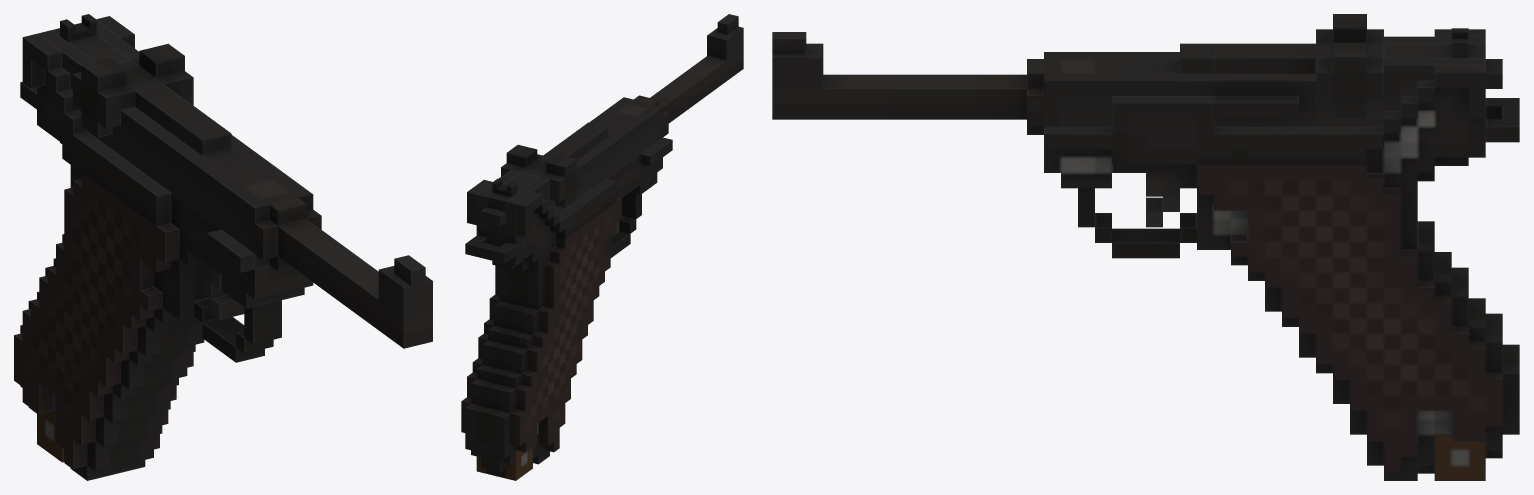
File: RD_LUGER_P08.glb
The picture shows the model from 3 angles, left to right: view 1: azimuth 30°, elevation 25°; view 2: azimuth 150°, elevation 25°; view 3: azimuth 270°, elevation 25°; orthographic projection. The views are drawn at different scales.
Parts seen in each view (by area): view 1: LUGER_P08, LUGER_P08_FRAME, LUGER_P08_BOLT_P2, LUGER_P08_BOLT_P1, LUGER_P08_BOLT_P3, LUGER_P08_CLIP; view 2: LUGER_P08, LUGER_P08_FRAME, LUGER_P08_BOLT_P2, LUGER_P08_BOLT_P3, LUGER_P08_CLIP, LUGER_P08_BOLT_P1; view 3: LUGER_P08, LUGER_P08_FRAME, LUGER_P08_BOLT_P2, LUGER_P08_CLIP, LUGER_P08_BOLT_P3, LUGER_P08_BOLT_P1.
Boxes of the visible parts, box(x1,y1,x2,y2) form: LUGER_P08: box(14, 16, 313, 480); LUGER_P08_FRAME: box(37, 21, 432, 348); LUGER_P08_BOLT_P2: box(73, 43, 214, 142); LUGER_P08_BOLT_P1: box(185, 121, 272, 186); LUGER_P08_BOLT_P3: box(52, 14, 130, 62); LUGER_P08_CLIP: box(37, 411, 64, 462); LUGER_P08: box(461, 137, 672, 464); LUGER_P08_FRAME: box(476, 14, 743, 234); LUGER_P08_BOLT_P2: box(501, 130, 596, 208); LUGER_P08_BOLT_P3: box(481, 172, 539, 226); LUGER_P08_CLIP: box(476, 447, 532, 480); LUGER_P08_BOLT_P1: box(577, 112, 635, 145); LUGER_P08: box(1044, 29, 1519, 480); LUGER_P08_FRAME: box(772, 32, 1485, 134); LUGER_P08_BOLT_P2: box(1214, 14, 1383, 118); LUGER_P08_CLIP: box(1417, 434, 1502, 480); LUGER_P08_BOLT_P3: box(1384, 28, 1502, 88); LUGER_P08_BOLT_P1: box(1095, 43, 1213, 73).
Bounding box in the file's own units: 0.0591 × 0.2756 × 0.4331.
1 material, 1 textured.
